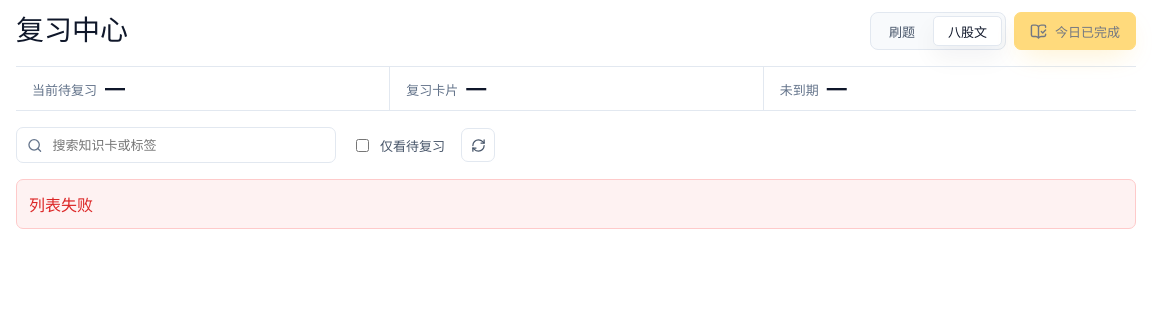
Scenario: 统一知识卡复习列表 › 列表错误不展示成功空态，可刷新恢复
Expected: the message reads "列表失败", [29,195,93,215]
Click the button named "刷新复习卡" at (478, 145), box [461,128,495,162]
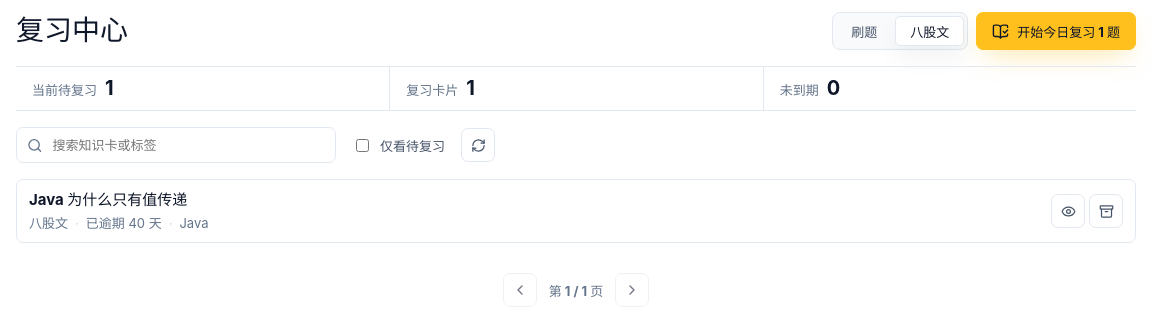
Now the heading "Java 为什么只有值传递" is shown, box [29,190,187,209]
